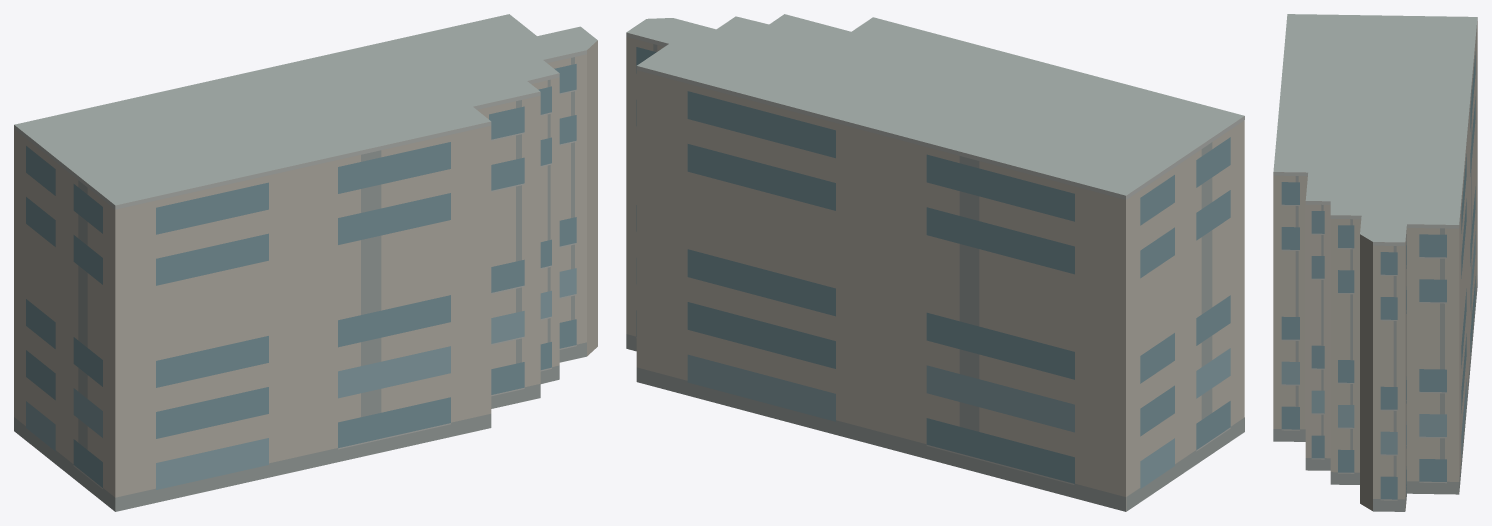
Rendered from survey-upis-32764188.glb.
3 views of the same model, side by side, from view 1: azimuth 30°, elevation 25°; view 2: azimuth 150°, elevation 25°; view 3: azimuth 270°, elevation 25° (orthographic). The views are drawn at different scales.
Parts seen in each view (by area): view 1: survey-upis-32764188.tmp; view 2: survey-upis-32764188.tmp; view 3: survey-upis-32764188.tmp.
Boxes of the visible parts, x1=… form: survey-upis-32764188.tmp: x1=14, y1=14, x2=597, y2=511; survey-upis-32764188.tmp: x1=626, y1=14, x2=1244, y2=511; survey-upis-32764188.tmp: x1=1273, y1=14, x2=1477, y2=511.
Bounding box in the file's own units: 32.46 × 17.85 × 12.26.
